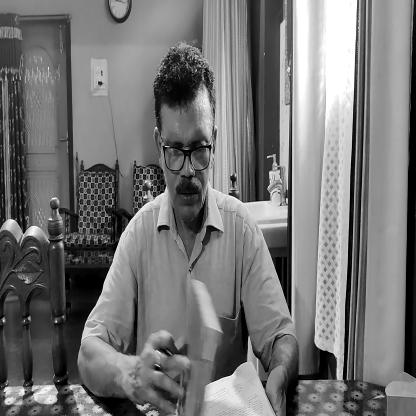Normal: (153, 47, 216, 221)
